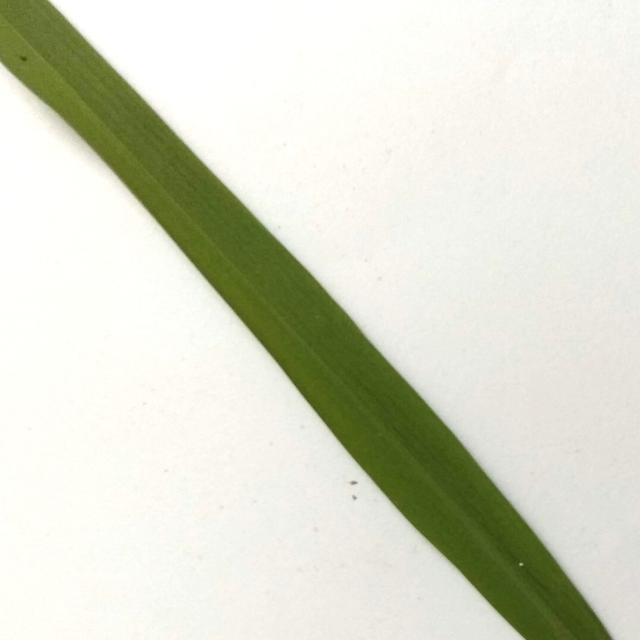Rice_Healthy: (0, 0, 611, 640)
